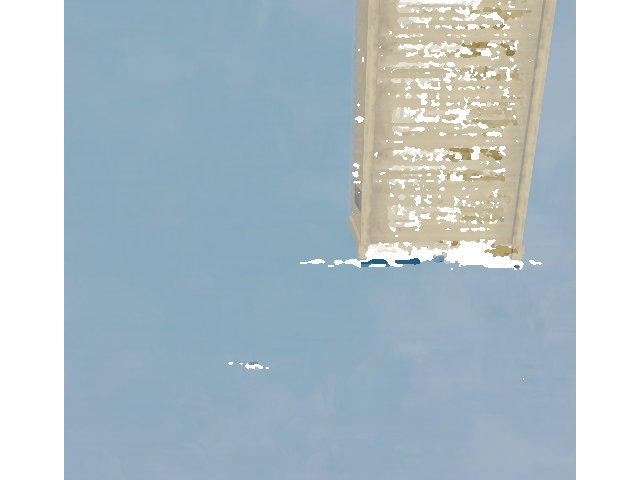container3: (347, 0, 564, 262)
